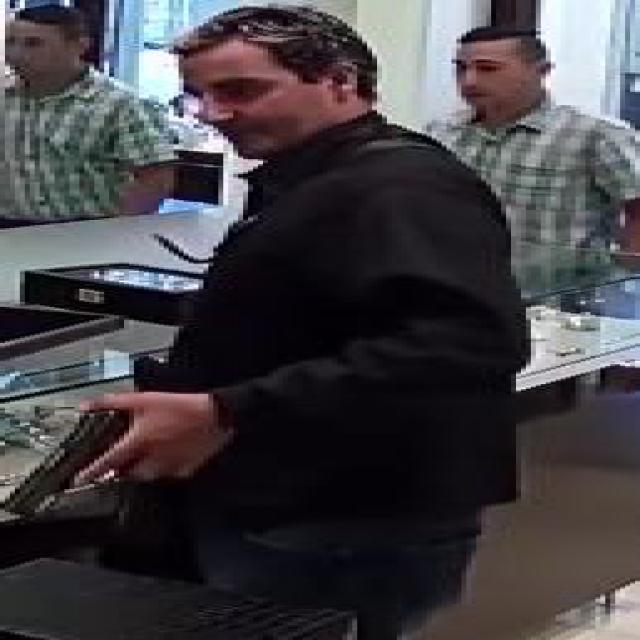gun: (0, 393, 194, 516)
